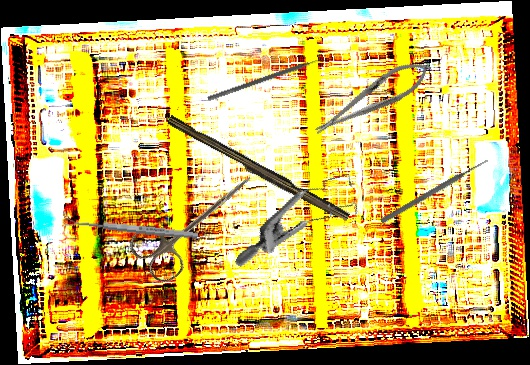Iris Scissors: (124, 152, 268, 289)
Needle Holder: (307, 51, 438, 145)
Pusher: (379, 156, 490, 226)
Scalpel Handle: (164, 115, 352, 225)
Spatula Surgical: (207, 53, 328, 107)
Speculum: (234, 145, 371, 303)
Surgical Spoon: (64, 217, 199, 240)
